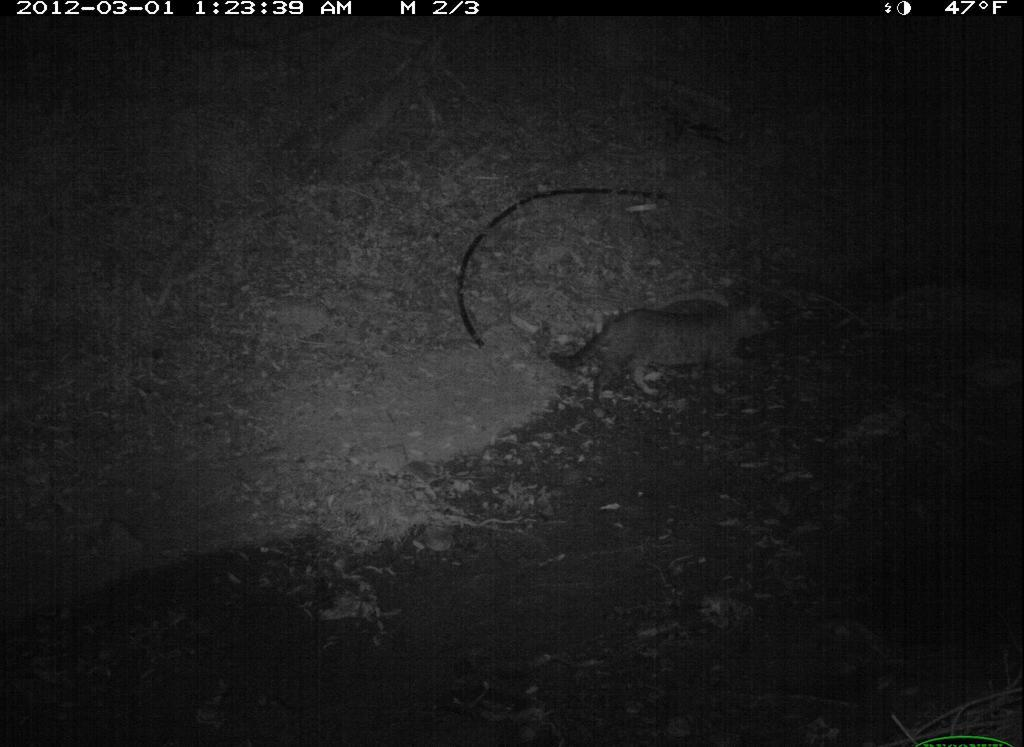cat: (546, 287, 783, 411)
